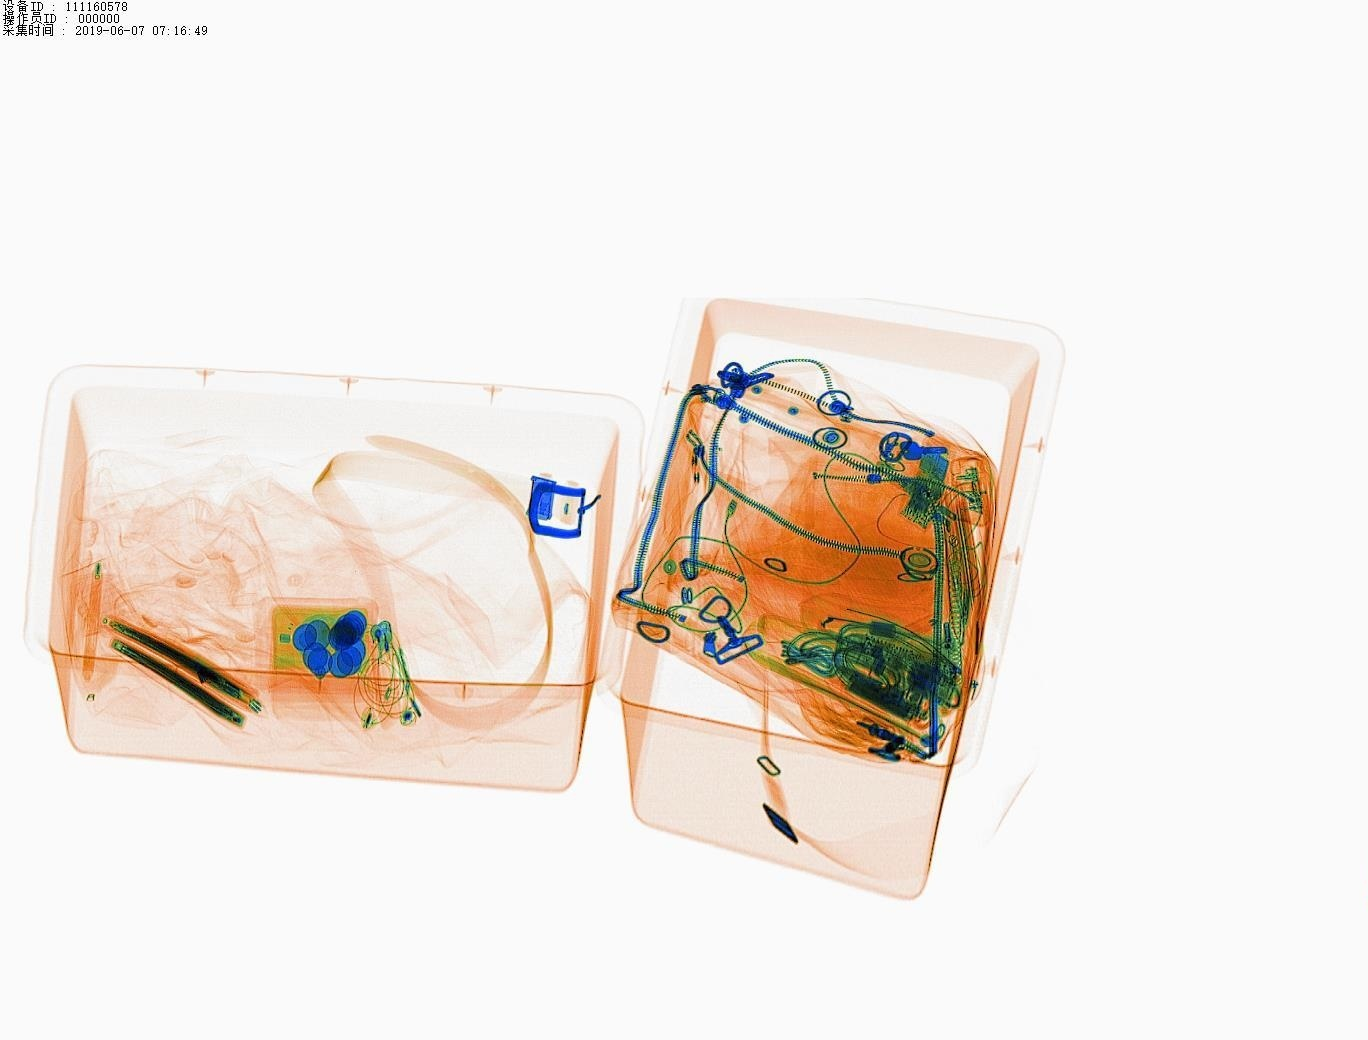NonmetallicFire: (366, 605, 417, 729)
